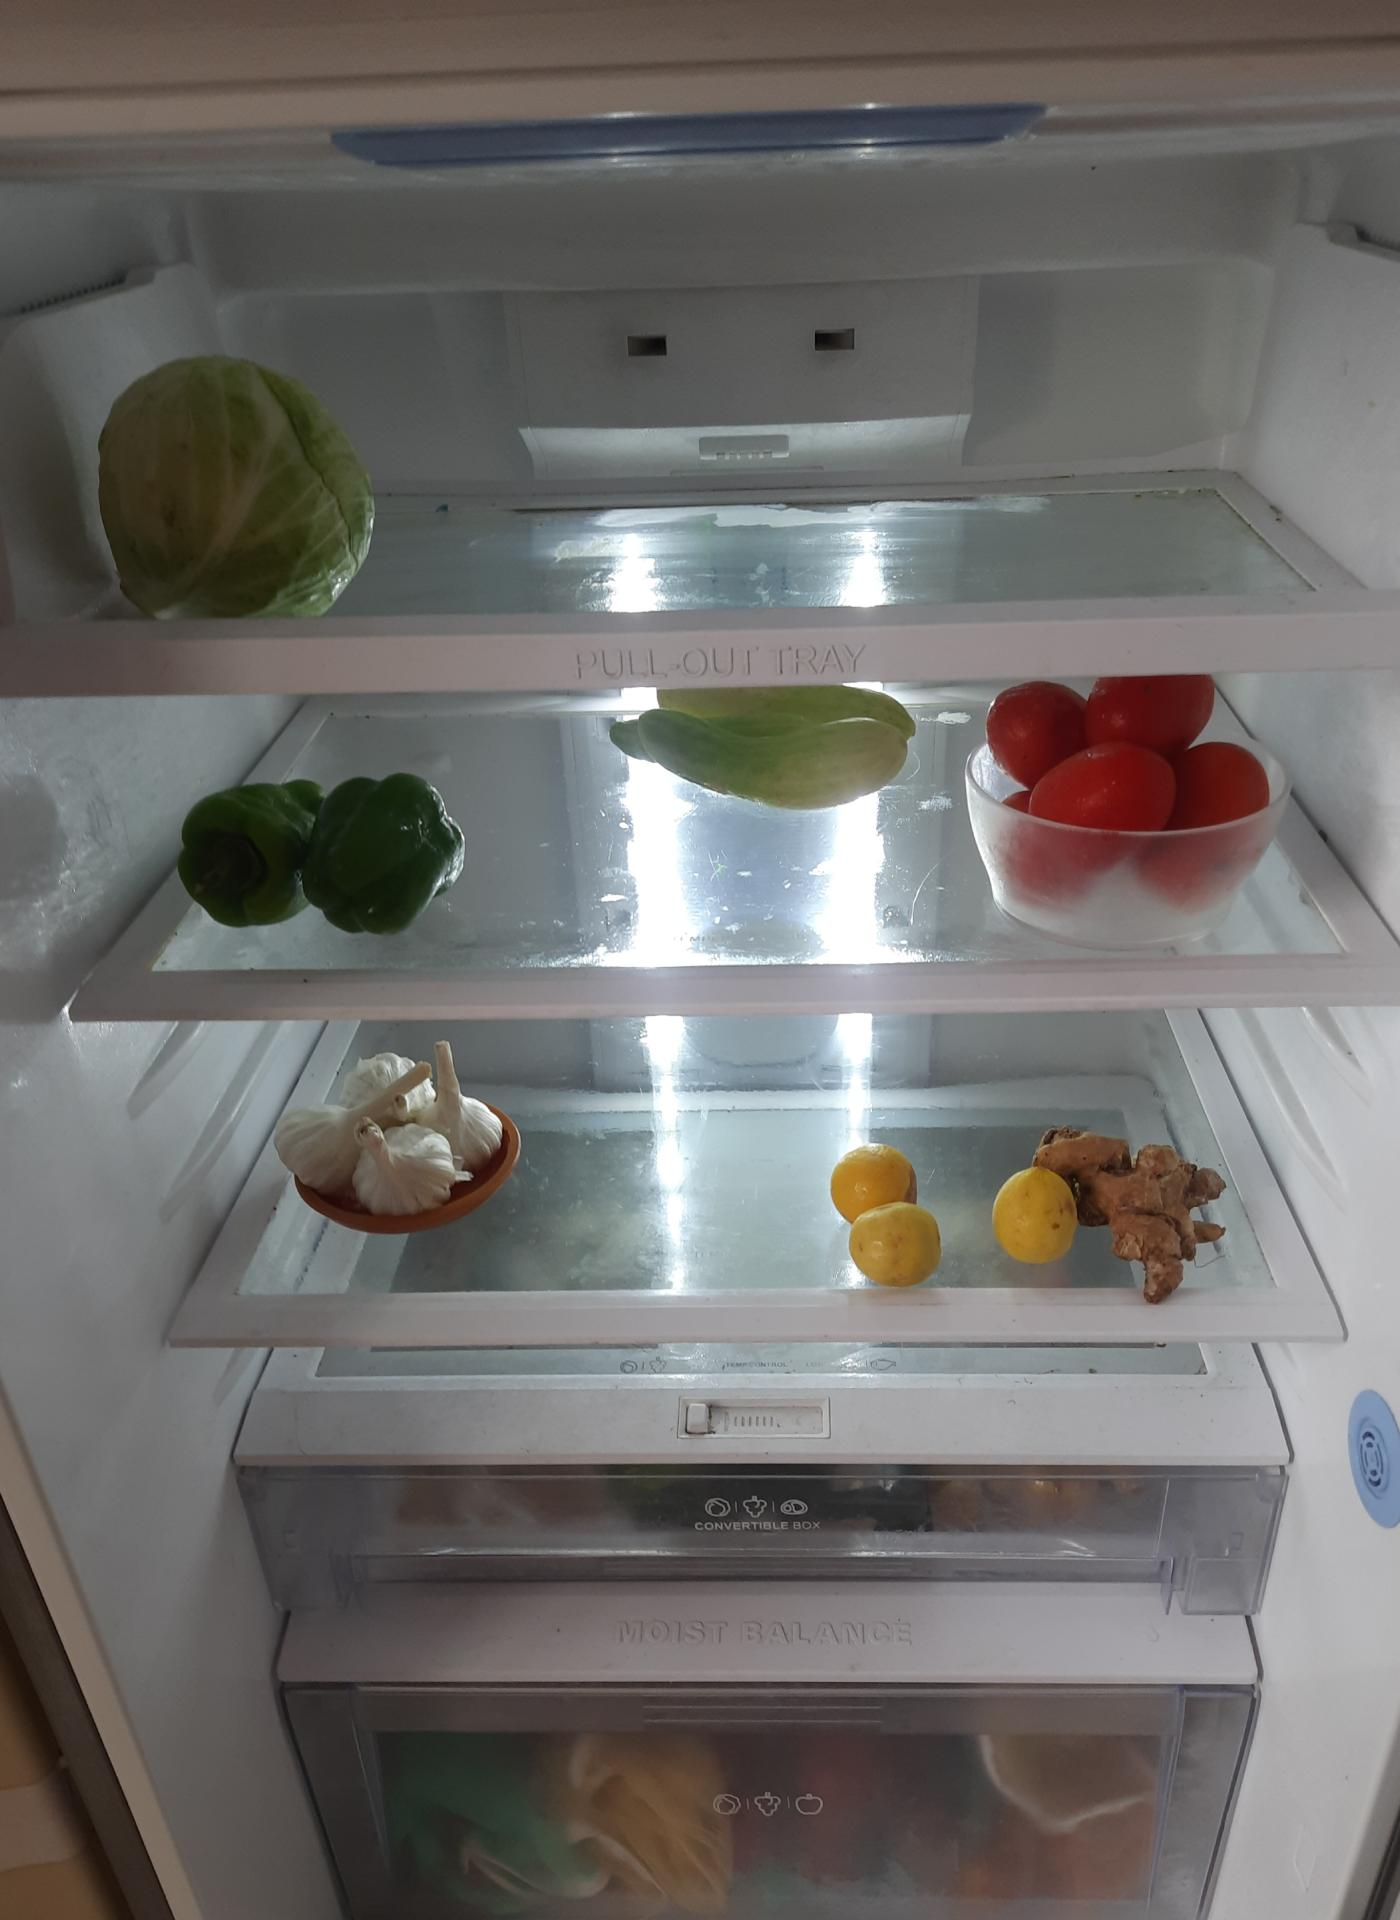cabbage: (92, 347, 373, 613)
capsicum: (174, 760, 465, 936)
cucumber: (604, 689, 921, 814)
garlic: (279, 1046, 505, 1227)
ginger: (1036, 1121, 1230, 1286)
lemon: (832, 1151, 950, 1282), (996, 1155, 1088, 1292)
tomato: (978, 669, 1282, 906)
